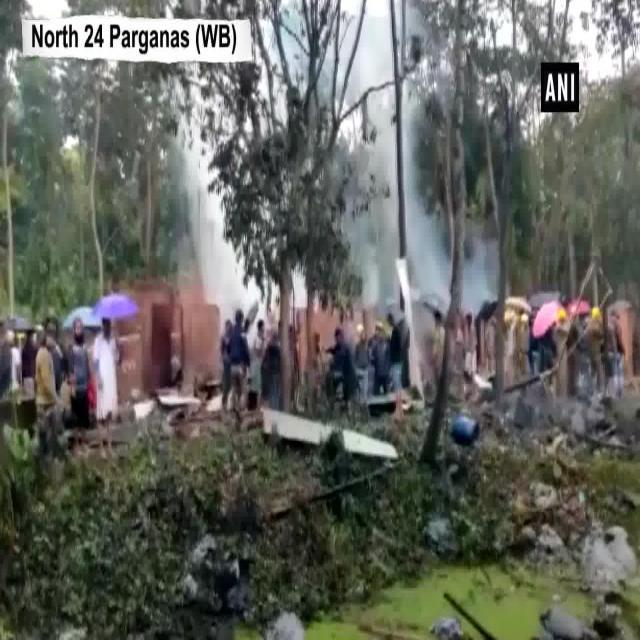Smoke: (372, 115, 412, 288), (193, 172, 225, 290), (348, 2, 392, 79), (412, 218, 452, 298)
